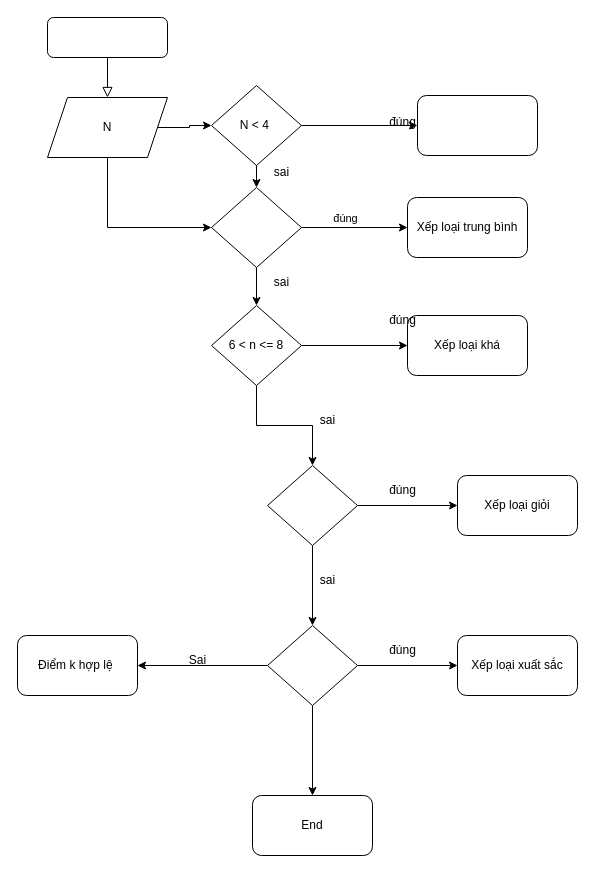
The diagram is 595 pixels wide and 873 high, and some of its shapes have lost their labels. The box of each missing label's shape, as (x1, y1, x2, y2) in pixels:
4 <= n <= 6: (210, 186, 302, 268)
8 < n <= 9: (266, 464, 358, 546)
9 < n <= 10: (266, 624, 358, 706)
Start: (46, 16, 168, 58)
Xếp loại k đạt: (416, 94, 538, 156)
